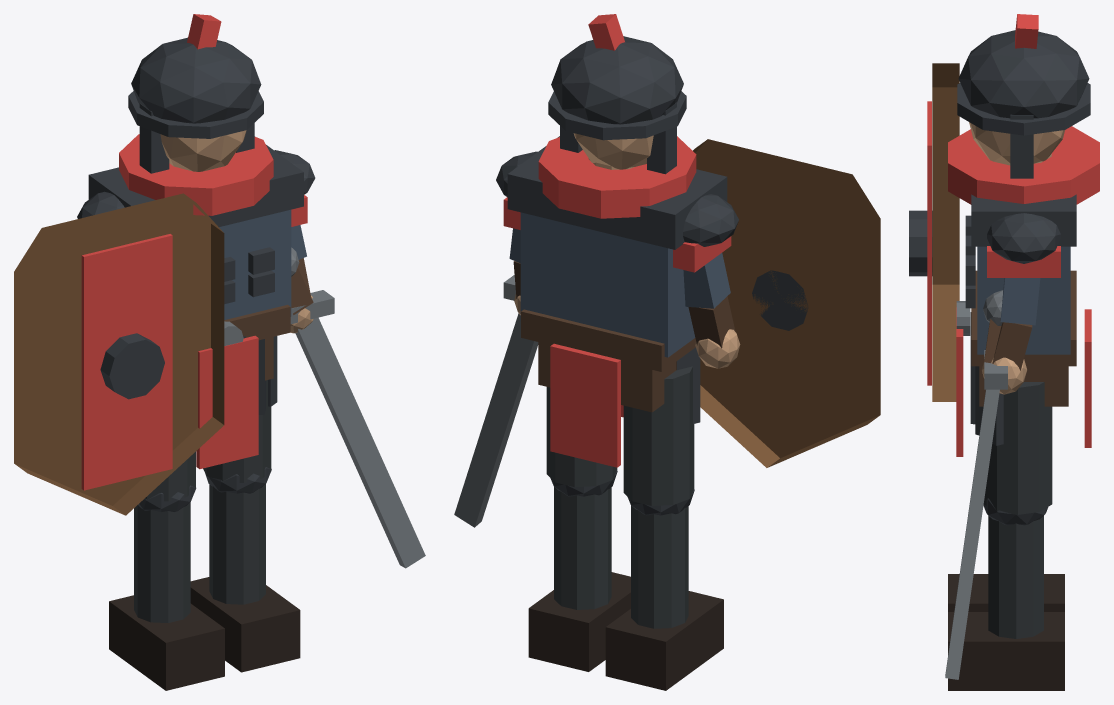
The model's file is CHR_Infantry_A_v001_LOD1_Red.glb.
3 views of the same model, side by side, from view 1: azimuth 30°, elevation 25°; view 2: azimuth 150°, elevation 25°; view 3: azimuth 270°, elevation 25° (orthographic). The views are drawn at different scales.
Visible parts, largest first — view 1: Shield_Base, Team_ShieldPanel, HelmetDome, Boot_L, Sword_Blade, Team_Scarf, Shin_R, Shin_L, Team_Tabard_F, Boot_R, Torso, ChestPlate (+13 smaller); view 2: Shield_Base, Torso, HelmetDome, Thigh_L, Team_Tabard_B, Team_Scarf, Boot_L, ChestPlate, Shin_L, Shin_R, Sword_Blade, Boot_R (+14 smaller); view 3: HelmetDome, Shield_Base, Team_Scarf, Thigh_R, Boot_R, Shin_R, Torso, Sword_Blade, ChestPlate, ShoulderPad_R, HelmetBrim, Belt (+22 smaller).
Part boxes in pixels (x1=…): Shield_Base: x1=14, y1=193, x2=224, y2=515; Team_ShieldPanel: x1=81, y1=234, x2=172, y2=490; HelmetDome: x1=131, y1=37, x2=261, y2=123; Boot_L: x1=109, y1=595, x2=224, y2=690; Sword_Blade: x1=295, y1=317, x2=425, y2=568; Team_Scarf: x1=119, y1=134, x2=273, y2=215; Shin_R: x1=209, y1=484, x2=265, y2=604; Shin_L: x1=134, y1=502, x2=190, y2=622; Team_Tabard_F: x1=196, y1=335, x2=258, y2=469; Boot_R: x1=190, y1=577, x2=300, y2=672; Torso: x1=219, y1=209, x2=291, y2=319; ChestPlate: x1=88, y1=145, x2=303, y2=226; Shield_Base: x1=693, y1=139, x2=880, y2=467; Torso: x1=520, y1=212, x2=695, y2=357; HelmetDome: x1=551, y1=36, x2=683, y2=124; Thigh_L: x1=623, y1=366, x2=694, y2=505; Team_Tabard_B: x1=550, y1=343, x2=620, y2=467; Team_Scarf: x1=538, y1=136, x2=696, y2=218; Boot_L: x1=605, y1=591, x2=723, y2=690; ChestPlate: x1=507, y1=136, x2=727, y2=249; Shin_L: x1=631, y1=505, x2=688, y2=628; Shin_R: x1=554, y1=487, x2=611, y2=609; Sword_Blade: x1=454, y1=313, x2=538, y2=527; Boot_R: x1=528, y1=572, x2=630, y2=671; HelmetDome: x1=958, y1=30, x2=1089, y2=118; Shield_Base: x1=932, y1=63, x2=959, y2=401; Team_Scarf: x1=948, y1=126, x2=1099, y2=204; Thigh_R: x1=984, y1=382, x2=1052, y2=514; Boot_R: x1=948, y1=612, x2=1064, y2=690; Shin_R: x1=988, y1=516, x2=1043, y2=638; Torso: x1=977, y1=246, x2=1070, y2=354; Sword_Blade: x1=945, y1=363, x2=999, y2=679; ChestPlate: x1=971, y1=194, x2=1076, y2=246; ShoulderPad_R: x1=987, y1=213, x2=1060, y2=263; HelmetBrim: x1=957, y1=83, x2=1090, y2=135; Belt: x1=971, y1=270, x2=1076, y2=366.
Size of the model in its own units: 1.23 by 1.83 by 0.49.
2 materials, 2 textured.
